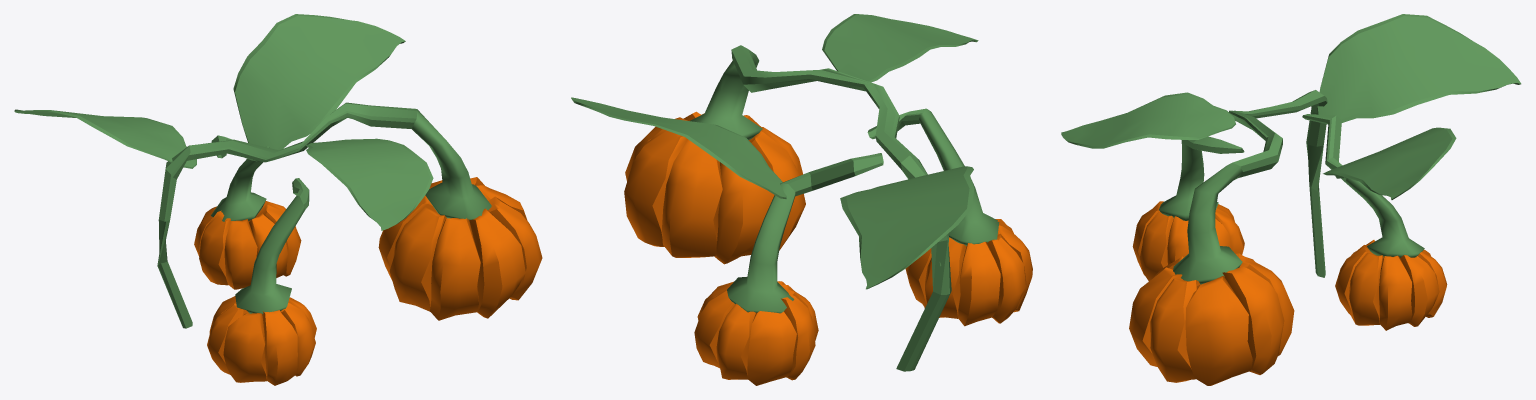
File: pum3.fbx
The picture shows the model from 3 angles, left to right: view 1: azimuth 30°, elevation 25°; view 2: azimuth 150°, elevation 25°; view 3: azimuth 270°, elevation 25°; orthographic projection. The views are drawn at different scales.
Parts seen in each view (by area): view 1: PumpkinNearRipe_03; view 2: PumpkinNearRipe_03; view 3: PumpkinNearRipe_03.
Boxes of the visible parts, <box> form: PumpkinNearRipe_03: <box>14,14,542,385</box>; PumpkinNearRipe_03: <box>571,14,1032,385</box>; PumpkinNearRipe_03: <box>1061,14,1521,385</box>.
Size of the model in its own units: 0.648 by 0.3461 by 0.6482.
